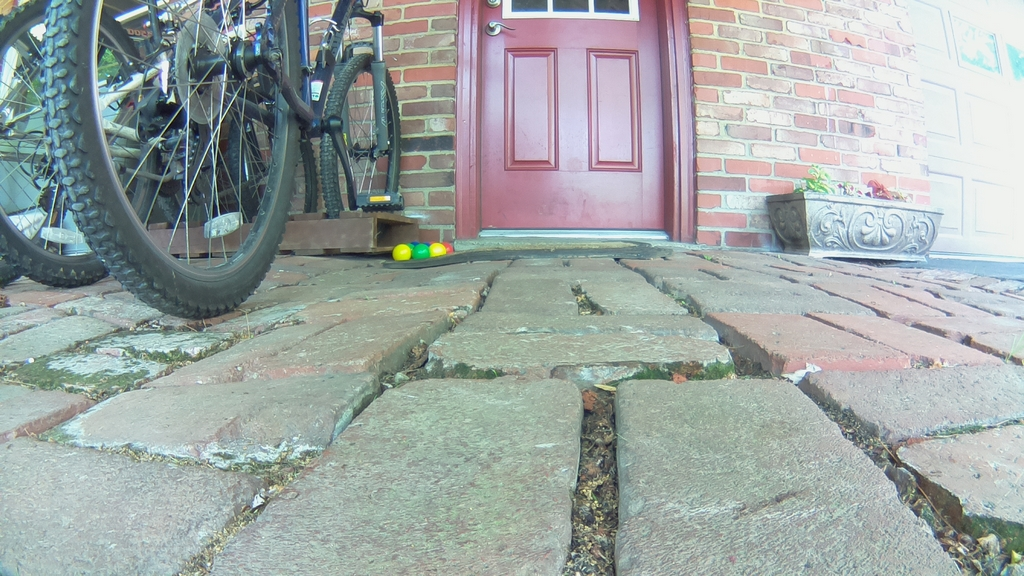ball: (445, 242, 454, 253)
